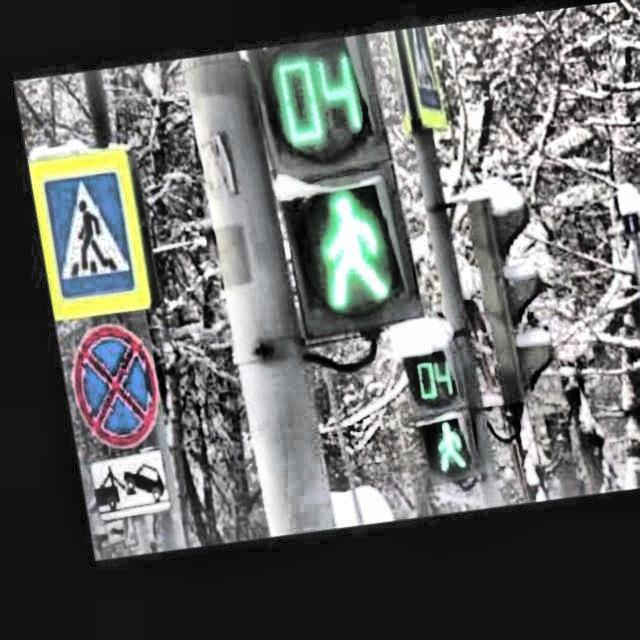semaforo pedestre: (221, 38, 444, 360), (355, 343, 489, 518)
